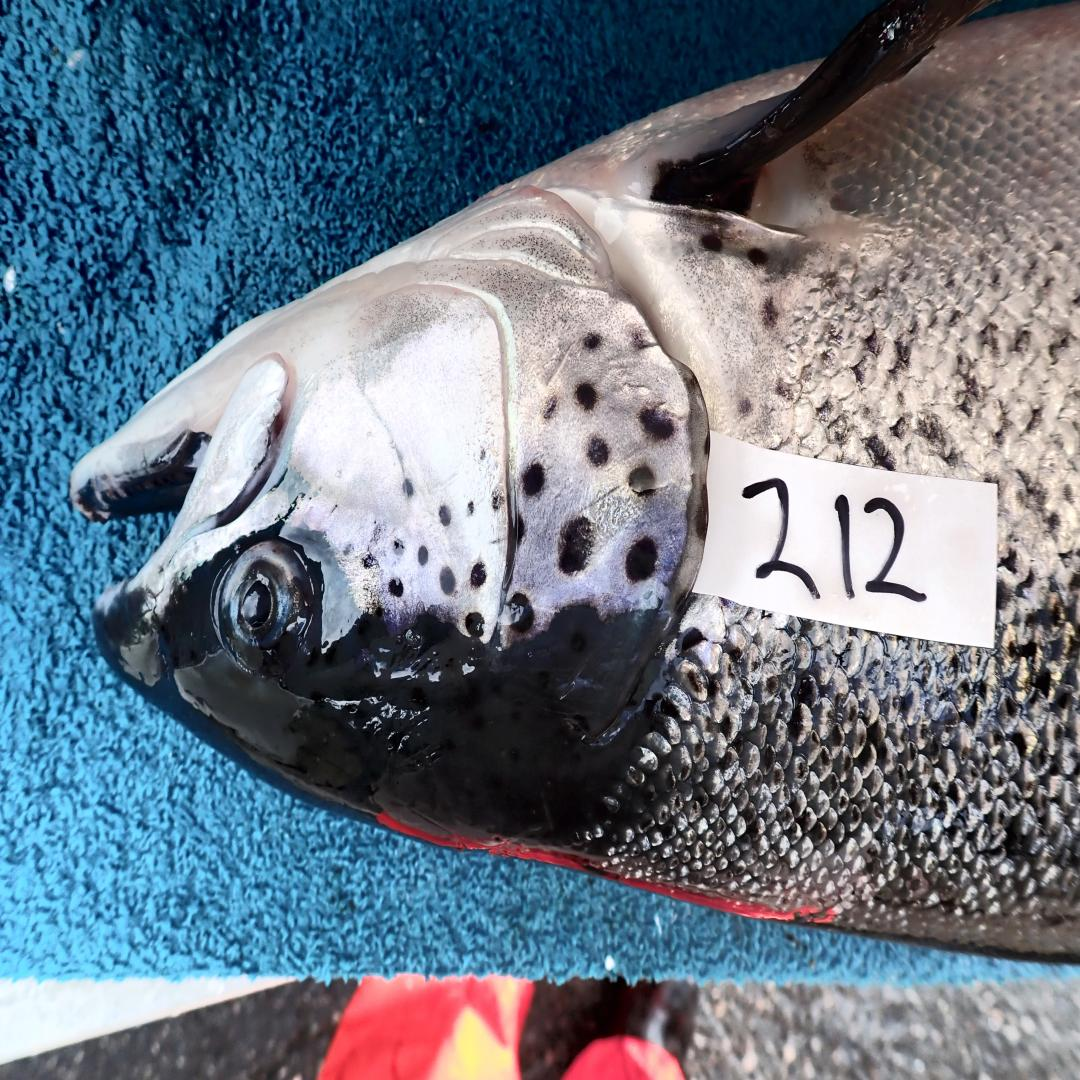spot: (559, 518, 595, 574), (626, 537, 656, 582), (549, 603, 603, 628), (639, 408, 675, 439), (508, 593, 534, 633), (629, 467, 656, 495), (586, 436, 610, 467), (523, 464, 544, 495), (576, 382, 597, 411), (464, 613, 485, 638), (470, 562, 487, 588), (543, 395, 558, 421), (441, 568, 456, 593), (515, 513, 526, 546), (388, 579, 403, 596), (439, 506, 451, 526), (584, 335, 601, 349), (362, 553, 377, 568), (403, 478, 413, 498), (418, 546, 428, 565), (394, 540, 405, 557), (491, 492, 502, 509), (479, 448, 487, 462), (468, 501, 475, 515)
